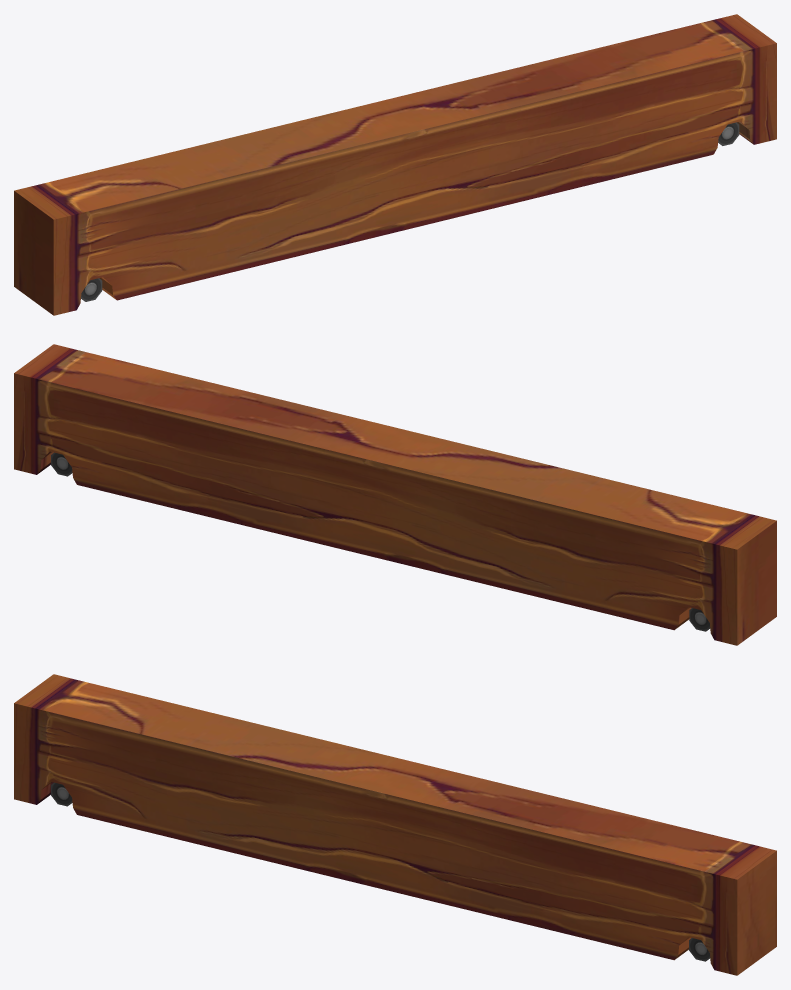
File: dynamic_fence_wood_04.fbx
The picture shows the model from 3 angles, top to bottom: view 1: azimuth 30°, elevation 25°; view 2: azimuth 150°, elevation 25°; view 3: azimuth 330°, elevation 25°; orthographic projection.
Parts seen in each view (by area): view 1: dynamic_fence_wood_04; view 2: dynamic_fence_wood_04; view 3: dynamic_fence_wood_04.
Boxes of the visible parts, x1=… form: dynamic_fence_wood_04: x1=14, y1=14, x2=776, y2=315; dynamic_fence_wood_04: x1=14, y1=344, x2=776, y2=645; dynamic_fence_wood_04: x1=14, y1=674, x2=776, y2=975.
Size of the model in its own units: 315 by 40 by 30.25.
